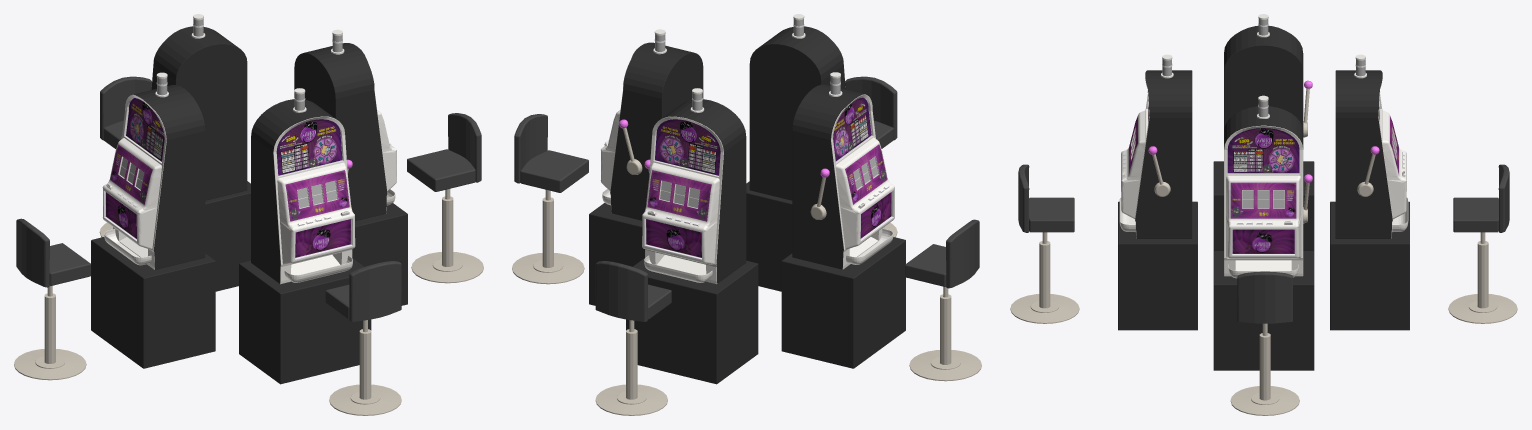
Rendered from Pillar Slots.fbx.
3 renders of one model, left to right at view 1: azimuth 30°, elevation 25°; view 2: azimuth 150°, elevation 25°; view 3: azimuth 270°, elevation 25°, orthographic. The views are drawn at different scales.
Visible parts, largest first — view 1: I13CA Pillar Slots.Shape; view 2: I13CA Pillar Slots.Shape; view 3: I13CA Pillar Slots.Shape.
Part boxes in pixels (bbox=[...]): I13CA Pillar Slots.Shape: bbox=[14, 14, 483, 415]; I13CA Pillar Slots.Shape: bbox=[512, 14, 981, 415]; I13CA Pillar Slots.Shape: bbox=[1010, 14, 1517, 415].
Bounding box in the file's own units: 365 × 200 × 365.
30 materials, 13 textured.
